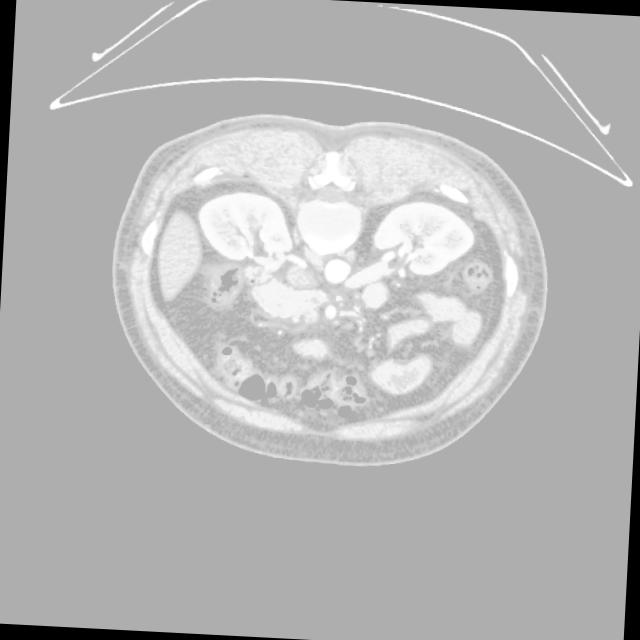NORMAL: (62, 77, 591, 516)
